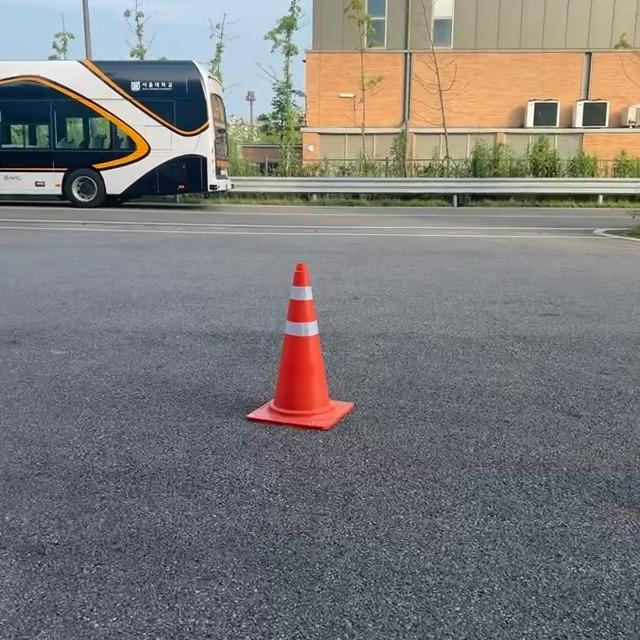fallen_object: (246, 246, 397, 460)
